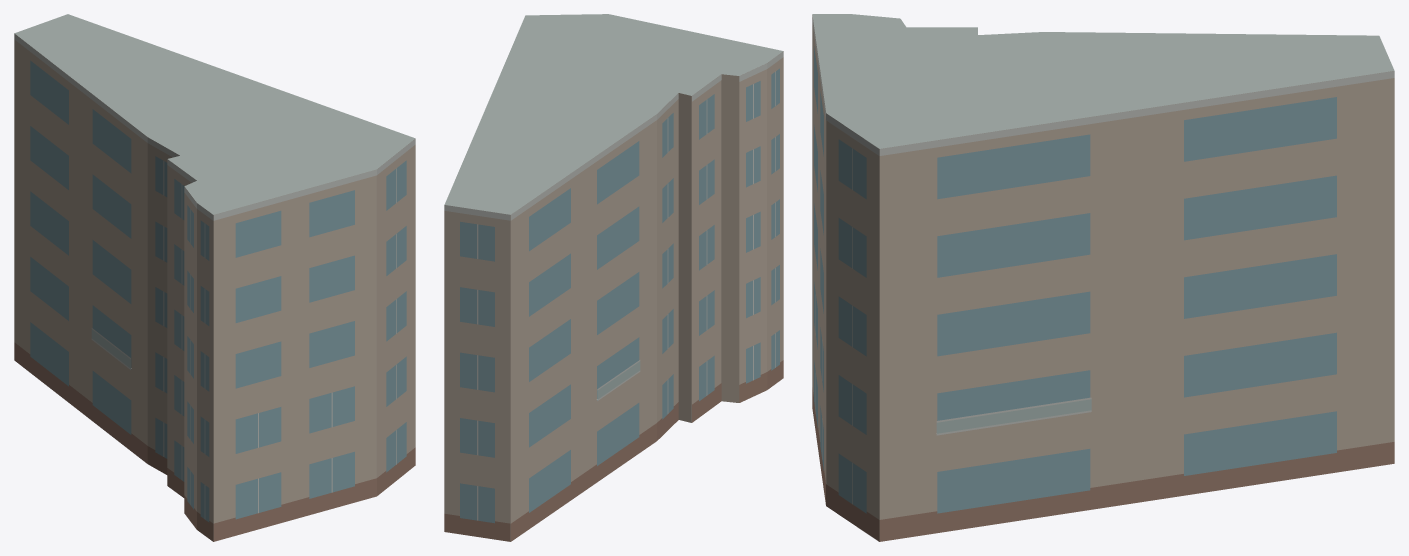
File: survey-upis-32687203.glb
3 renders of one model, left to right at view 1: azimuth 30°, elevation 25°; view 2: azimuth 150°, elevation 25°; view 3: azimuth 270°, elevation 25°, orthographic. The views are drawn at different scales.
Parts seen in each view (by area): view 1: survey-upis-32687203.tmp; view 2: survey-upis-32687203.tmp; view 3: survey-upis-32687203.tmp.
Part boxes in pixels (bbox=[...]): survey-upis-32687203.tmp: bbox=[14, 14, 415, 541]; survey-upis-32687203.tmp: bbox=[444, 14, 783, 541]; survey-upis-32687203.tmp: bbox=[812, 14, 1394, 541].
Bounding box in the file's own units: 9.89 × 13.4 × 18.01.
